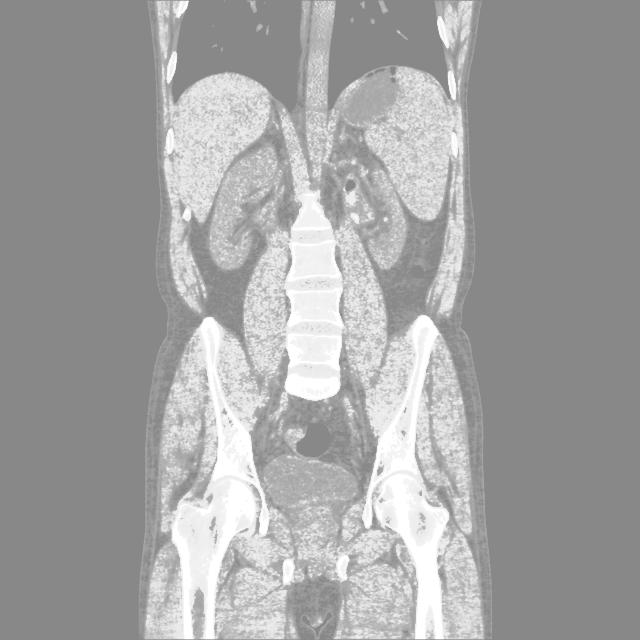STONE: (205, 147, 480, 282)
